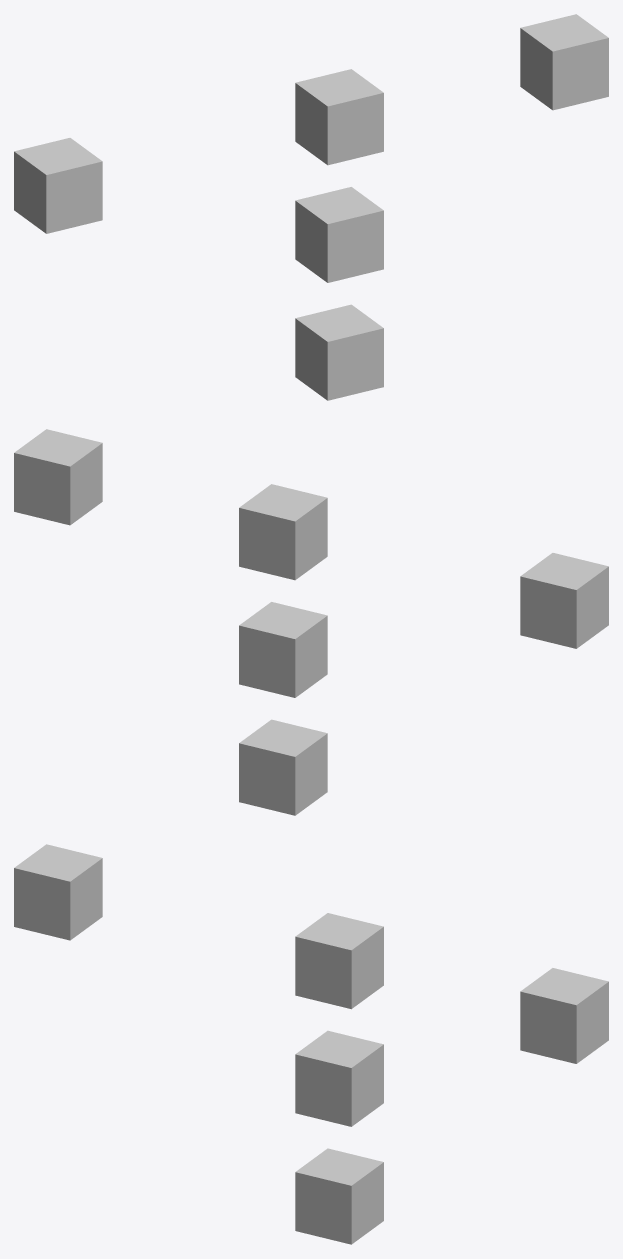
The picture shows the model from 3 angles, top to bottom: view 1: azimuth 30°, elevation 25°; view 2: azimuth 150°, elevation 25°; view 3: azimuth 330°, elevation 25°; orthographic projection.
Visible parts, largest first — view 1: 28.1; view 2: 28.1; view 3: 28.1.
Boxes of the visible parts, box(x1,y1,x2,y2) form: 28.1: box(14, 14, 608, 400); 28.1: box(14, 429, 608, 815); 28.1: box(14, 844, 608, 1244).
Bounding box in the file's own units: 100 × 50 × 10.
Materials: 1 (1 with a texture image).
